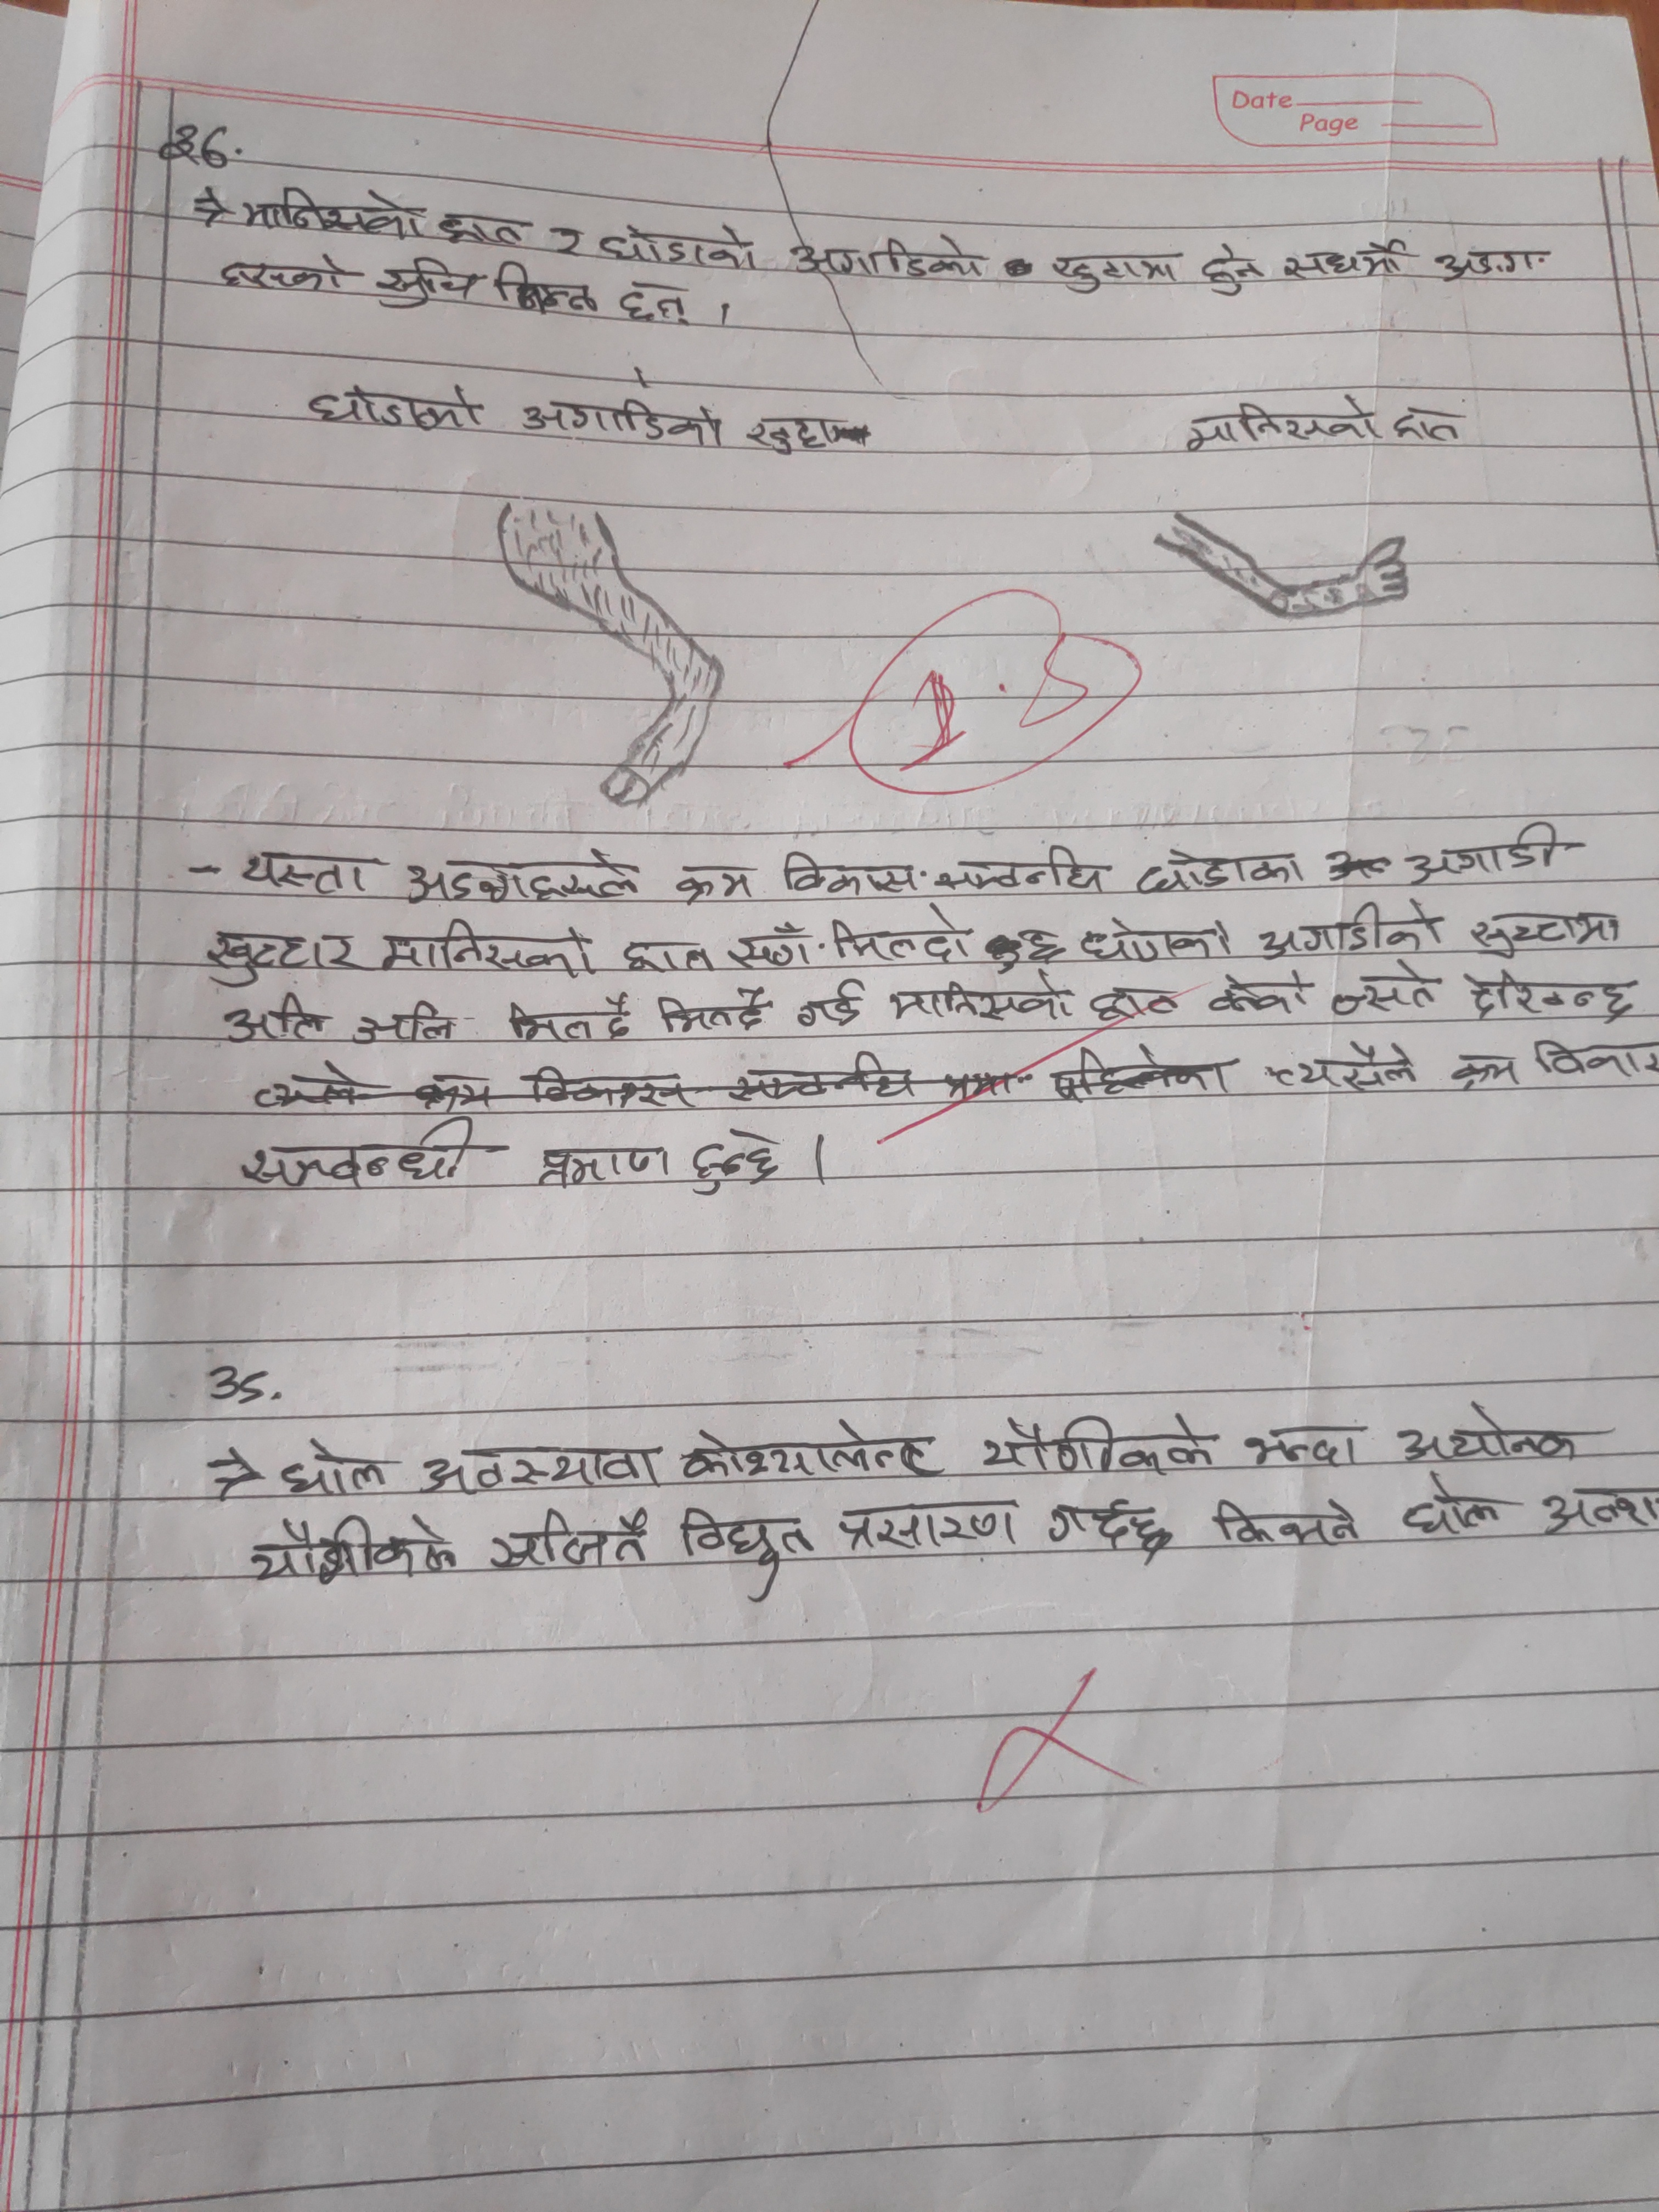text: (234, 1118, 481, 1190), (678, 1420, 943, 1484), (404, 840, 640, 909), (979, 1407, 1216, 1475), (673, 1500, 816, 1601), (244, 1517, 462, 1583), (378, 916, 598, 981), (521, 392, 732, 458), (1394, 1399, 1593, 1468), (416, 1440, 664, 1494), (1180, 392, 1384, 456), (1455, 960, 1643, 1028), (828, 1500, 1028, 1559), (1403, 820, 1572, 890), (784, 230, 992, 286), (242, 181, 429, 242), (1256, 902, 1446, 960), (596, 211, 763, 275), (484, 1508, 652, 1573), (884, 970, 1068, 1026), (310, 380, 495, 434), (932, 845, 1108, 900), (1044, 1493, 1176, 1564), (1263, 1040, 1419, 1101), (1204, 1491, 1368, 1548), (1134, 843, 1305, 895), (826, 907, 971, 967), (206, 925, 326, 991), (277, 1435, 397, 1501), (211, 247, 361, 300), (528, 1139, 676, 1191), (239, 850, 380, 904), (507, 986, 641, 1042), (1464, 907, 1622, 954), (690, 1127, 788, 1202), (1330, 961, 1443, 1026), (775, 850, 918, 900), (1077, 918, 1239, 961), (1401, 1475, 1504, 1541), (1243, 1420, 1368, 1474), (1046, 251, 1187, 298), (220, 991, 333, 1049), (1528, 1033, 1659, 1082), (652, 989, 777, 1040), (1204, 970, 1317, 1026), (376, 253, 481, 312), (491, 261, 596, 319), (1281, 237, 1412, 282), (352, 998, 460, 1050), (1544, 1489, 1659, 1538), (1429, 244, 1551, 287), (725, 916, 810, 970), (742, 408, 836, 456), (617, 935, 718, 981), (434, 207, 533, 251), (1086, 986, 1190, 1026), (1194, 237, 1263, 296), (669, 860, 758, 906), (795, 982, 871, 1035), (615, 282, 697, 331), (1387, 401, 1467, 441), (1448, 1054, 1527, 1092), (547, 216, 591, 261)
